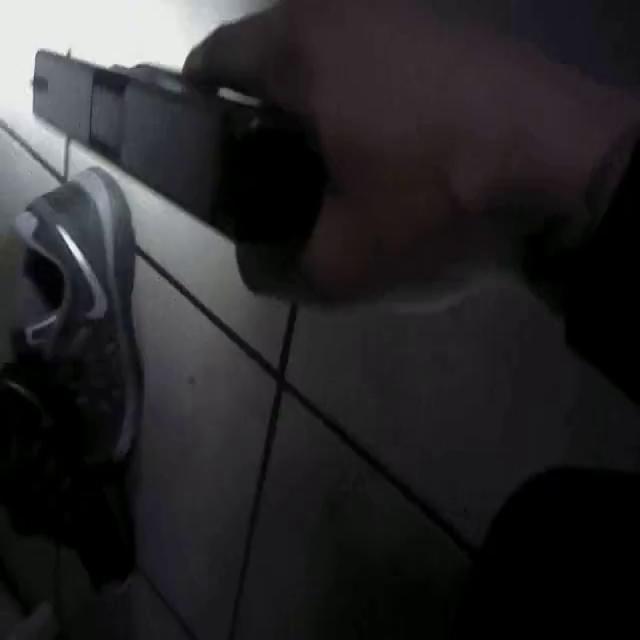gun: (0, 0, 374, 361)
